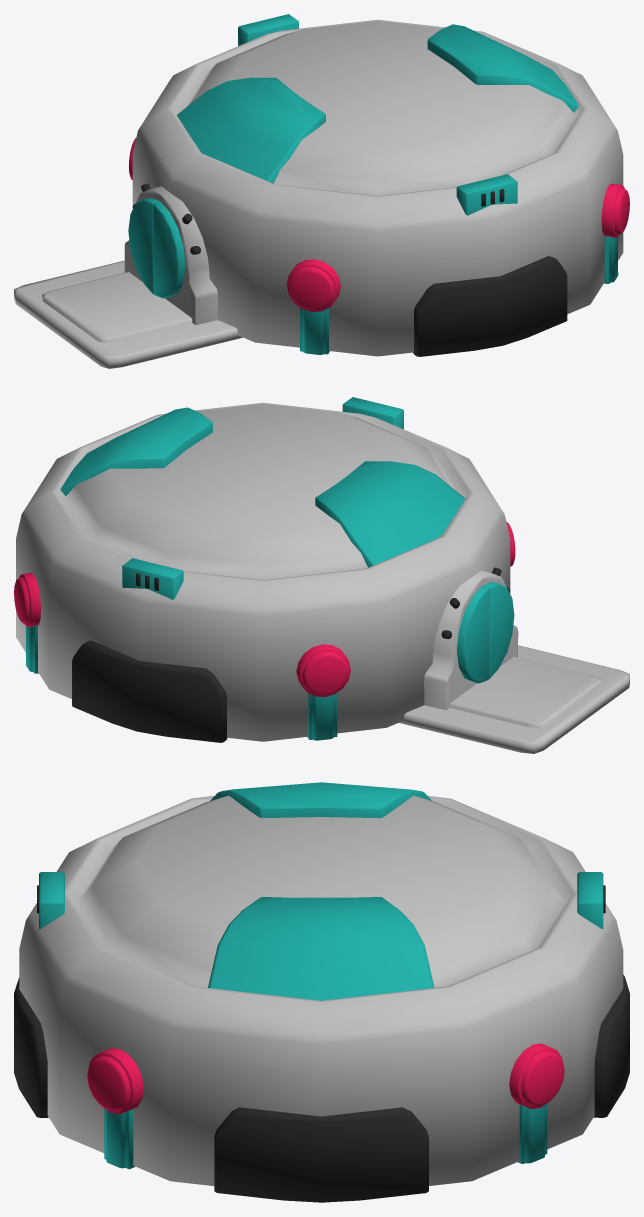
3 renders of one model, top to bottom at view 1: azimuth 30°, elevation 25°; view 2: azimuth 150°, elevation 25°; view 3: azimuth 270°, elevation 25°, orthographic. The views are drawn at different scales.
Parts seen in each view (by area): view 1: Main_house.004; view 2: Main_house.004; view 3: Main_house.004.
Part boxes in pixels (x1=…): Main_house.004: x1=14, y1=14, x2=629, y2=368; Main_house.004: x1=14, y1=397, x2=629, y2=753; Main_house.004: x1=14, y1=782, x2=629, y2=1202.
Bounding box in the file's own units: 17.48 × 5.66 × 14.12.
